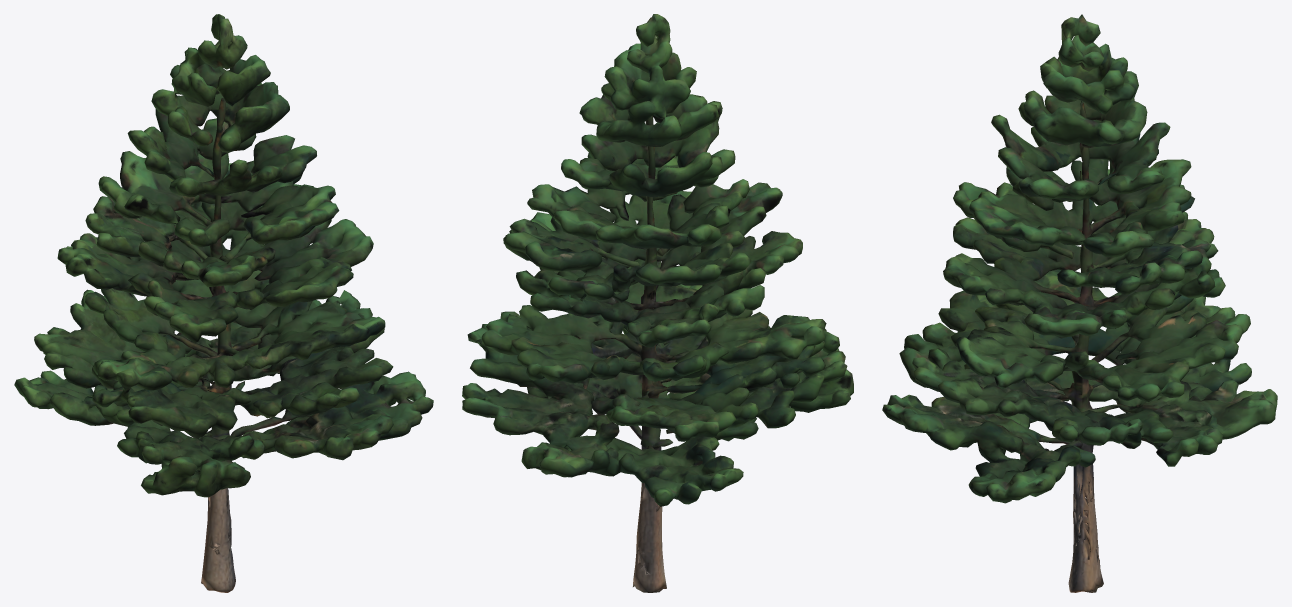
The model's file is AI_WindsweptPineTree.fbx.
3 renders of one model, left to right at view 1: azimuth 30°, elevation 25°; view 2: azimuth 150°, elevation 25°; view 3: azimuth 270°, elevation 25°, orthographic.
Parts seen in each view (by area): view 1: Mesh_0; view 2: Mesh_0; view 3: Mesh_0.
Part boxes in pixels (bbox=[...]): Mesh_0: bbox=[14, 14, 433, 592]; Mesh_0: bbox=[462, 14, 853, 592]; Mesh_0: bbox=[882, 14, 1277, 592].
Size of the model in its own units: 119 by 203 by 127.
Materials: 1 (1 with a texture image).
